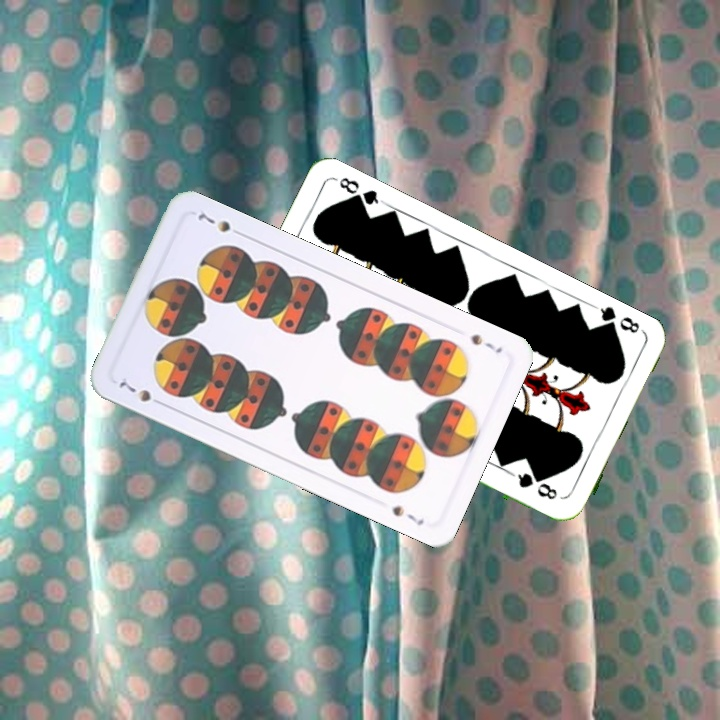G8: (592, 302, 647, 338)
S7: (115, 377, 168, 409), (467, 330, 505, 356)
